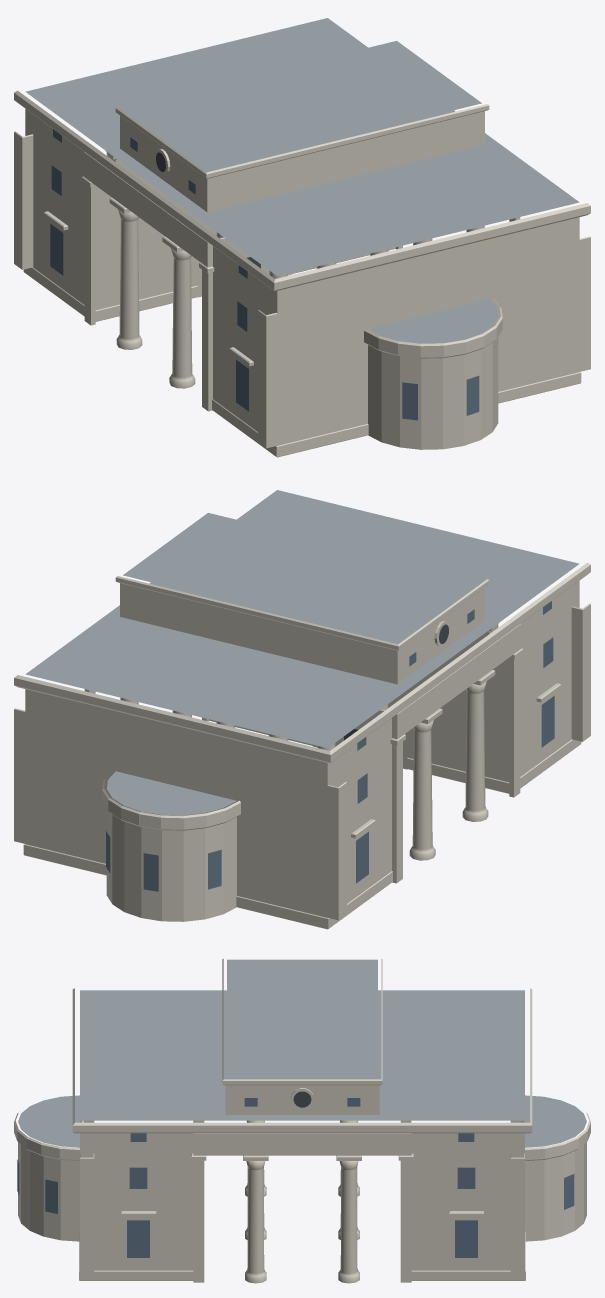
The model's file is amsterdam-haarlemmerpoort.glb.
3 renders of one model, top to bottom at view 1: azimuth 30°, elevation 25°; view 2: azimuth 150°, elevation 25°; view 3: azimuth 270°, elevation 25°, orthographic. The views are drawn at different scales.
Visible parts, largest first — view 1: Haarlemmerpoort; view 2: Haarlemmerpoort; view 3: Haarlemmerpoort.
Boxes of the visible parts, <box> form: Haarlemmerpoort: <box>14,18,590,457</box>; Haarlemmerpoort: <box>14,490,590,929</box>; Haarlemmerpoort: <box>14,958,590,1283</box>.
Size of the model in its own units: 20.6 by 13.5 by 35.91.
